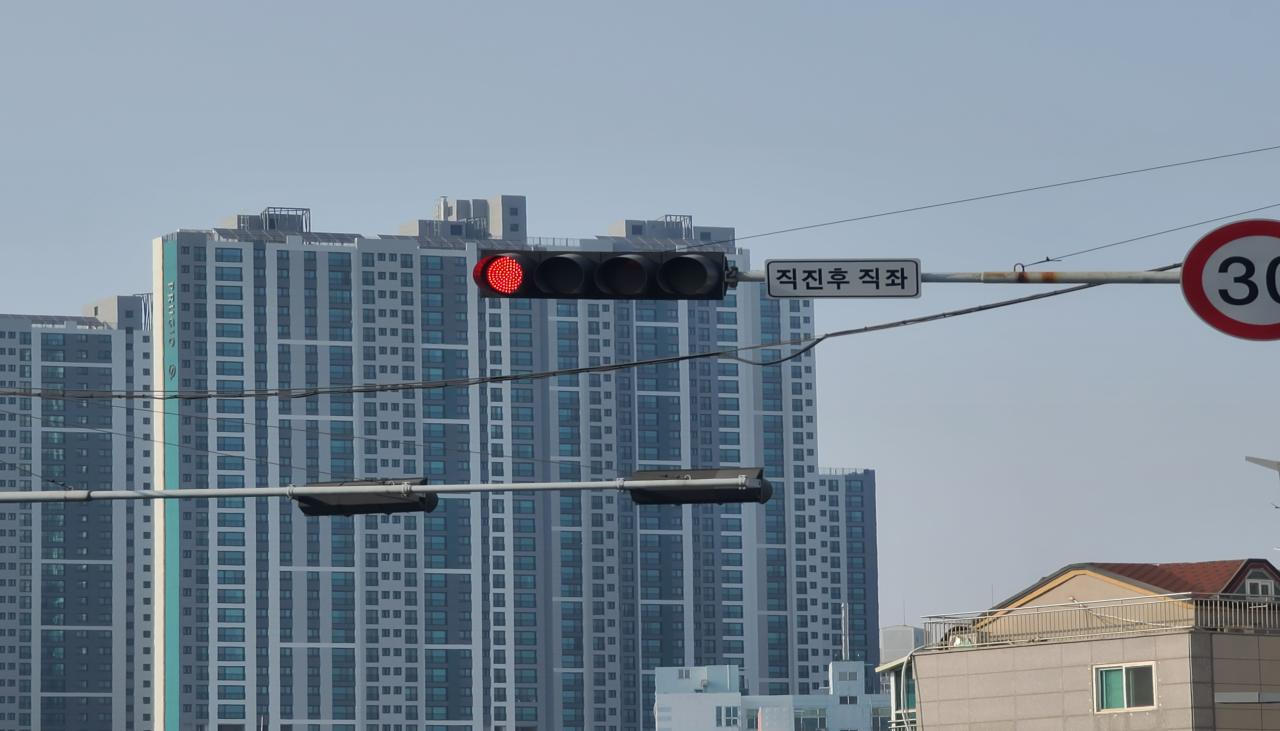Red Light: (483, 252, 527, 294)
